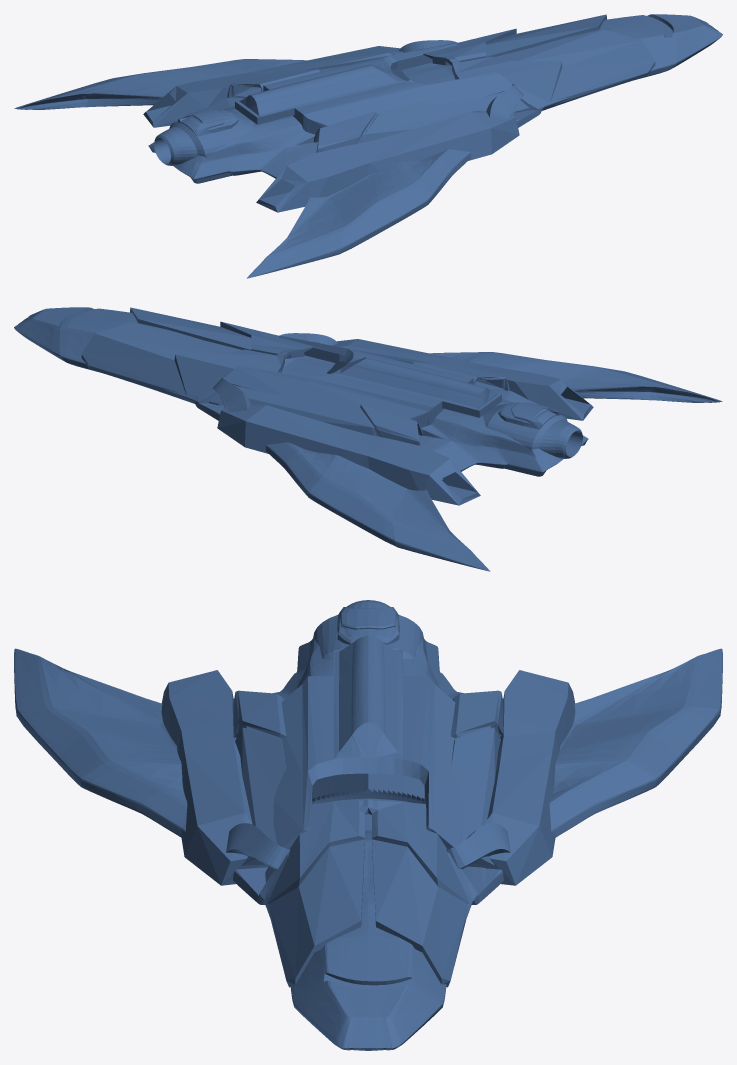
The model's file is ftl-stealth-cruiser.glb.
3 renders of one model, top to bottom at view 1: azimuth 30°, elevation 25°; view 2: azimuth 150°, elevation 25°; view 3: azimuth 270°, elevation 25°, orthographic. The views are drawn at different scales.
Visible parts, largest first — view 1: stealthship-final; view 2: stealthship-final; view 3: stealthship-final.
Boxes of the visible parts, x1,y1,x2,y2 form: stealthship-final: (14,14,722,278); stealthship-final: (14,307,722,571); stealthship-final: (14,600,722,1050).
Size of the model in its own units: 170 by 19.96 by 117.
